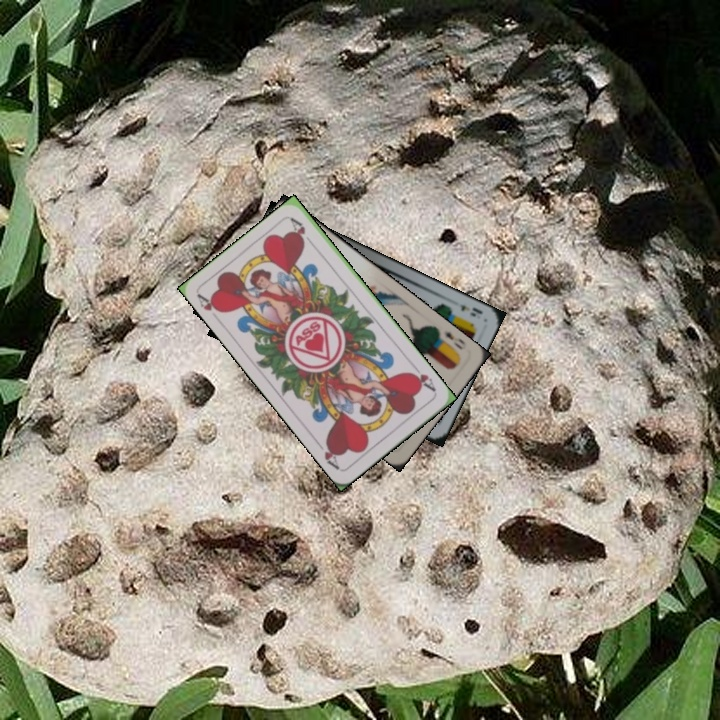EK: (449, 296, 485, 319)
EO: (434, 326, 467, 354)
HA: (405, 360, 438, 395), (194, 290, 227, 316)
